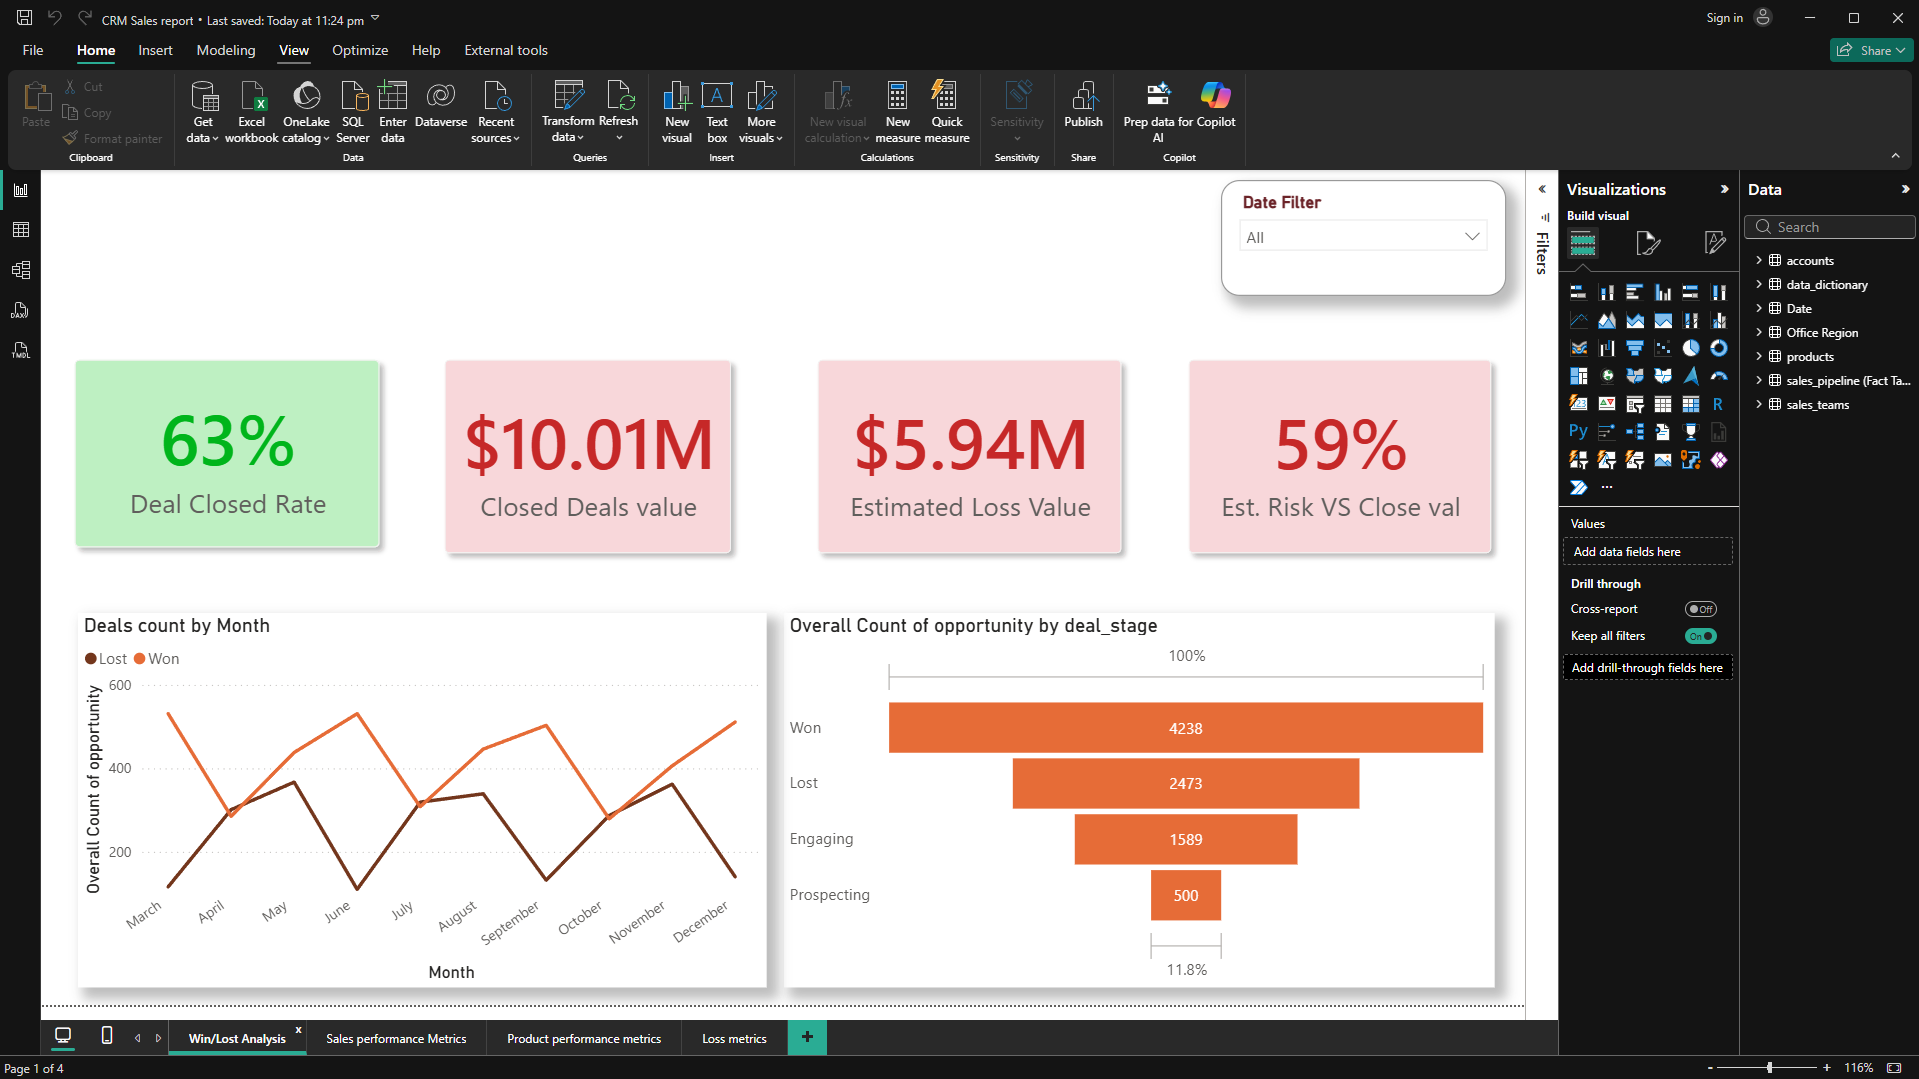

The page's visual inventory and layout, read from the dashboard file:
{"tool":"powerbi","page":{"name":"Win/Lost Analysis","canvas":[1280,720],"ordinal":0},"visuals":[{"type":"funnel","fields":{"Category":["sales_pipeline (Fact Table).deal_stage"],"Y":["sales_pipeline (Fact Table).Overall Count of opportunity"]},"box":[640.4,382.5,613.1,323.3],"z":0},{"type":"lineChart","title":"Deals count by Month","fields":{"Series":["sales_pipeline (Fact Table).deal_stage"],"Y":["sales_pipeline (Fact Table).Overall Count of opportunity"],"Category":["Date.Quarter","Date.Month","Date.Week Number"]},"box":[31.8,382.5,593.6,323.3],"z":1000},{"type":"cardVisual","fields":{"Data":["sales_pipeline (Fact Table).Deal Closed Rate"]},"box":[0,134.2,319.2,218.8],"z":2000},{"type":"cardVisual","fields":{"Data":["sales_pipeline (Fact Table).Closed Deals value"]},"box":[319.2,134.2,305.6,225.6],"z":3000},{"type":"cardVisual","fields":{"Data":["sales_pipeline (Fact Table).Estimated Loss Value"]},"box":[640.6,134.2,320.3,225.6],"z":4000},{"type":"cardVisual","fields":{"Data":["sales_pipeline (Fact Table).Loss Ratio"]},"box":[960.8,134.2,319.2,225.6],"z":4500},{"type":"slicer","fields":{"Values":["Date.Date.Variation.Date Hierarchy.Quarter","Date.Date.Variation.Date Hierarchy.Month"]},"box":[1017.8,8.6,245.8,100.1],"z":5000}]}

Visuals, with their boxes on the page's 1280x720 design canvas (x1, y1, x2, y2). These are canvas units, not pixel positions in the 1919x1079 screenshot, which may show the page scaled, cropped or inside an application window:
funnel - sales_pipeline (Fact Table).deal_stage x sales_pipeline (Fact Table).Overall Count of opportunity: x1=640 y1=382 x2=1254 y2=706
"Deals count by Month" lineChart: x1=32 y1=382 x2=625 y2=706
cardVisual - sales_pipeline (Fact Table).Deal Closed Rate: x1=0 y1=134 x2=319 y2=353
cardVisual - sales_pipeline (Fact Table).Closed Deals value: x1=319 y1=134 x2=625 y2=360
cardVisual - sales_pipeline (Fact Table).Estimated Loss Value: x1=641 y1=134 x2=961 y2=360
cardVisual - sales_pipeline (Fact Table).Loss Ratio: x1=961 y1=134 x2=1280 y2=360
slicer - Date.Date.Variation.Date Hierarchy.Quarter x Date.Date.Variation.Date Hierarchy.Month: x1=1018 y1=9 x2=1264 y2=109
